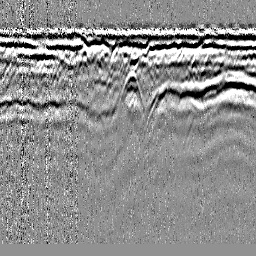cavity: (113, 69, 145, 120)
